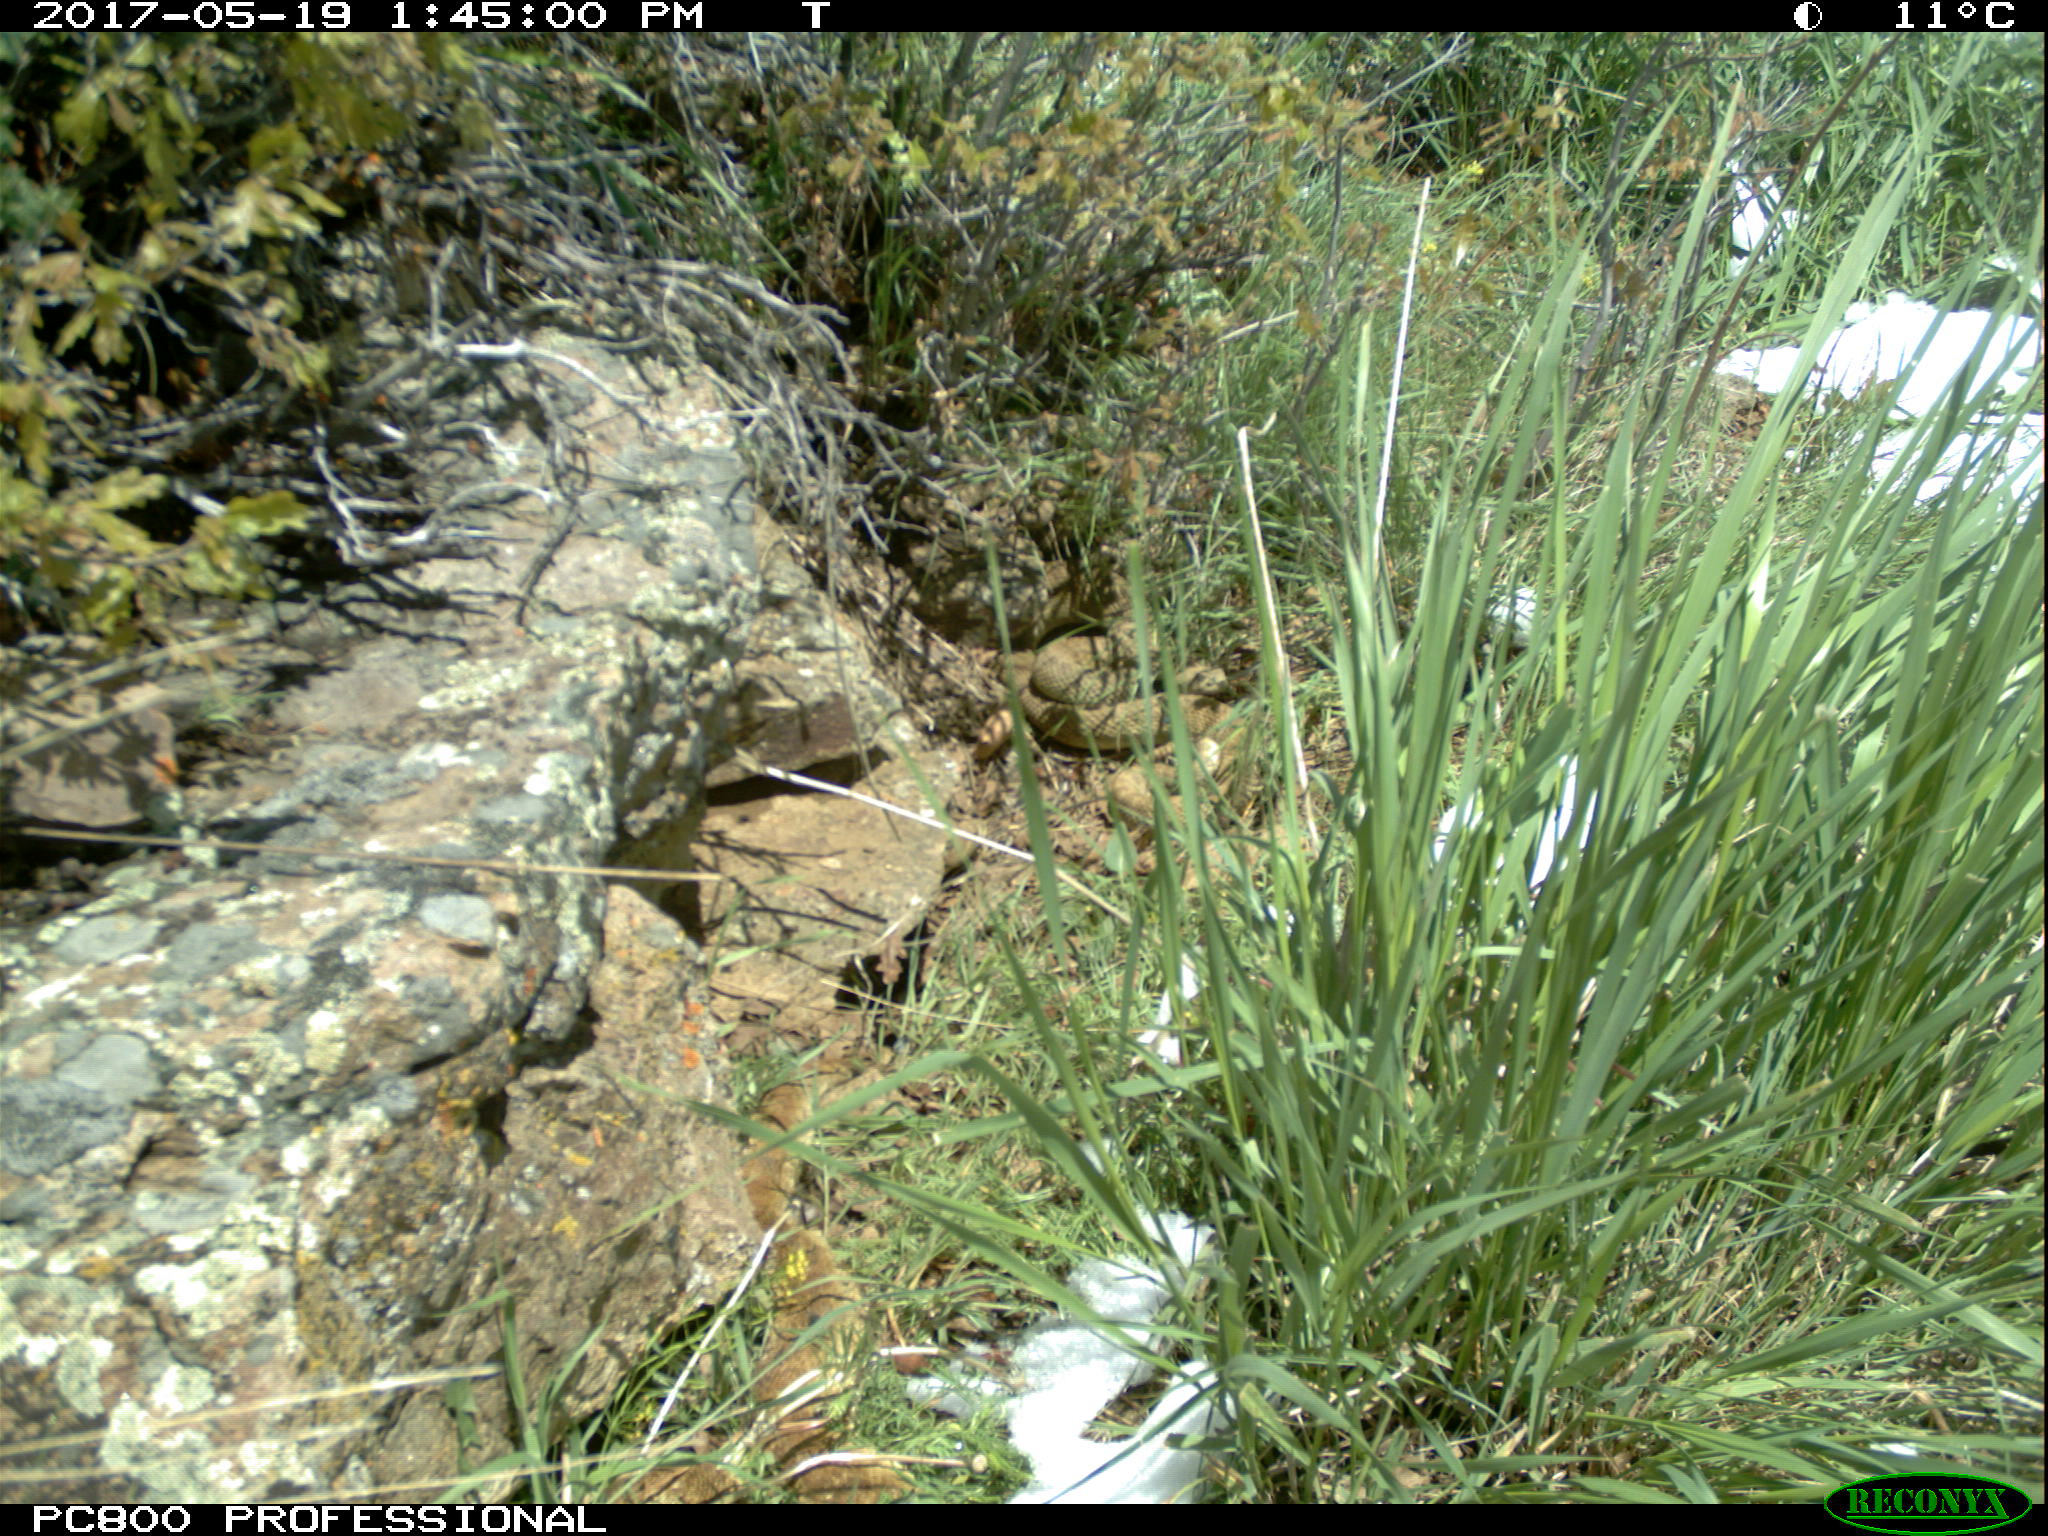snake: (735, 1070, 906, 1497), (1000, 628, 1264, 750), (1098, 733, 1230, 836)
